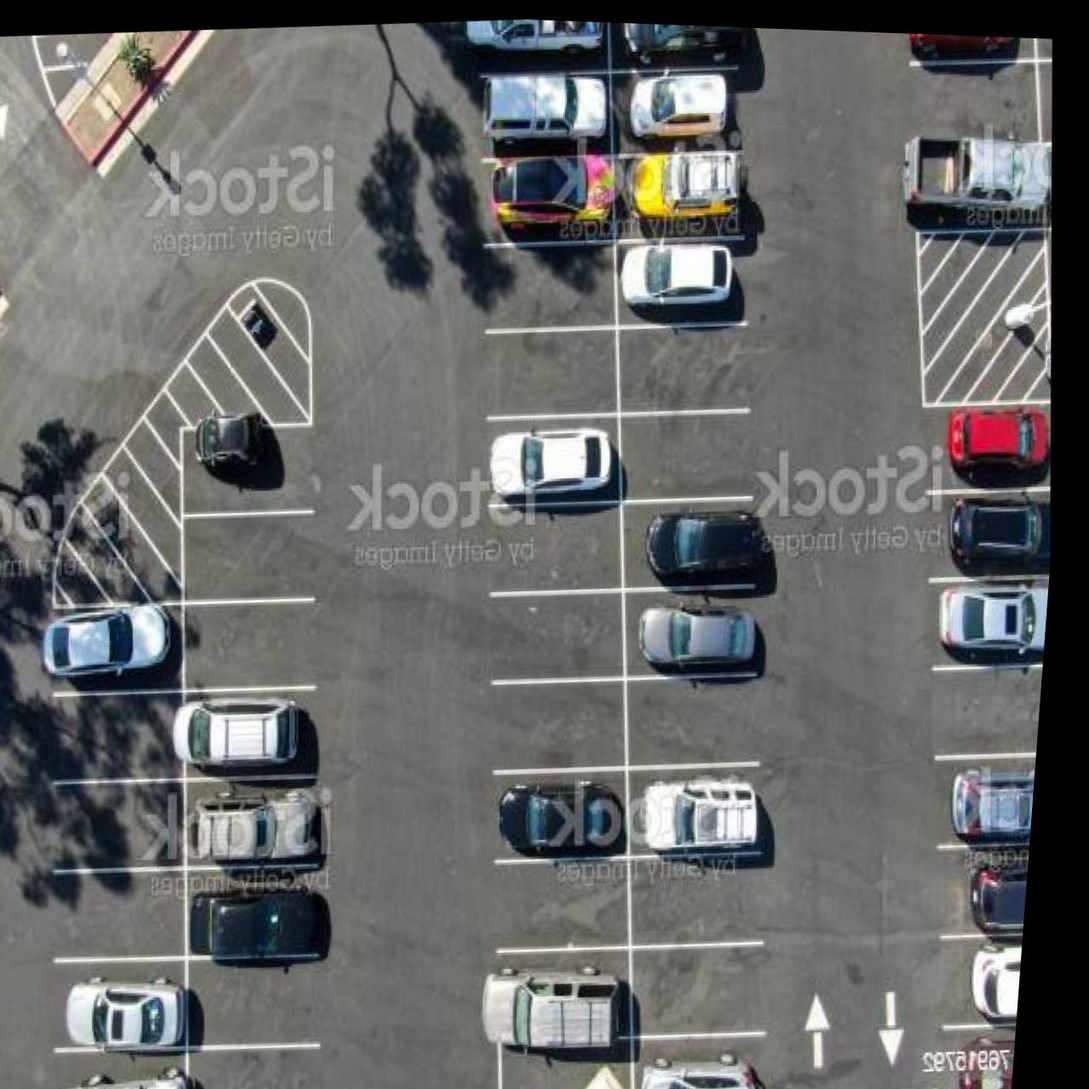cars: (181, 770, 325, 883), (616, 481, 770, 586), (904, 126, 1057, 231), (39, 954, 193, 1055), (494, 947, 643, 1049), (177, 687, 319, 787), (919, 479, 1056, 582), (469, 65, 613, 162), (612, 584, 765, 675), (479, 413, 627, 505), (184, 867, 326, 962), (40, 601, 188, 691), (920, 574, 1049, 677), (486, 765, 631, 855), (627, 758, 768, 850), (605, 146, 748, 234), (477, 151, 612, 240), (613, 236, 747, 325), (184, 423, 315, 514), (609, 65, 748, 150), (919, 405, 1055, 488), (927, 758, 1036, 853), (926, 848, 1029, 946), (466, 17, 612, 76), (936, 937, 1022, 1025), (609, 23, 748, 74), (42, 1041, 188, 1089), (632, 1039, 771, 1089), (497, 1046, 636, 1089), (938, 1030, 1016, 1089), (907, 34, 1041, 66)
empty: (43, 774, 194, 881), (38, 864, 196, 965), (489, 857, 637, 959), (482, 495, 632, 593), (486, 672, 632, 772), (485, 584, 634, 680), (182, 952, 329, 1048), (46, 687, 188, 786), (616, 408, 765, 501), (176, 601, 316, 695), (612, 318, 752, 412), (481, 327, 622, 419), (177, 515, 317, 607), (634, 947, 780, 1035), (624, 670, 769, 758), (631, 848, 766, 942), (925, 666, 1042, 770), (480, 239, 620, 324), (908, 51, 1042, 133), (181, 1043, 329, 1089)
